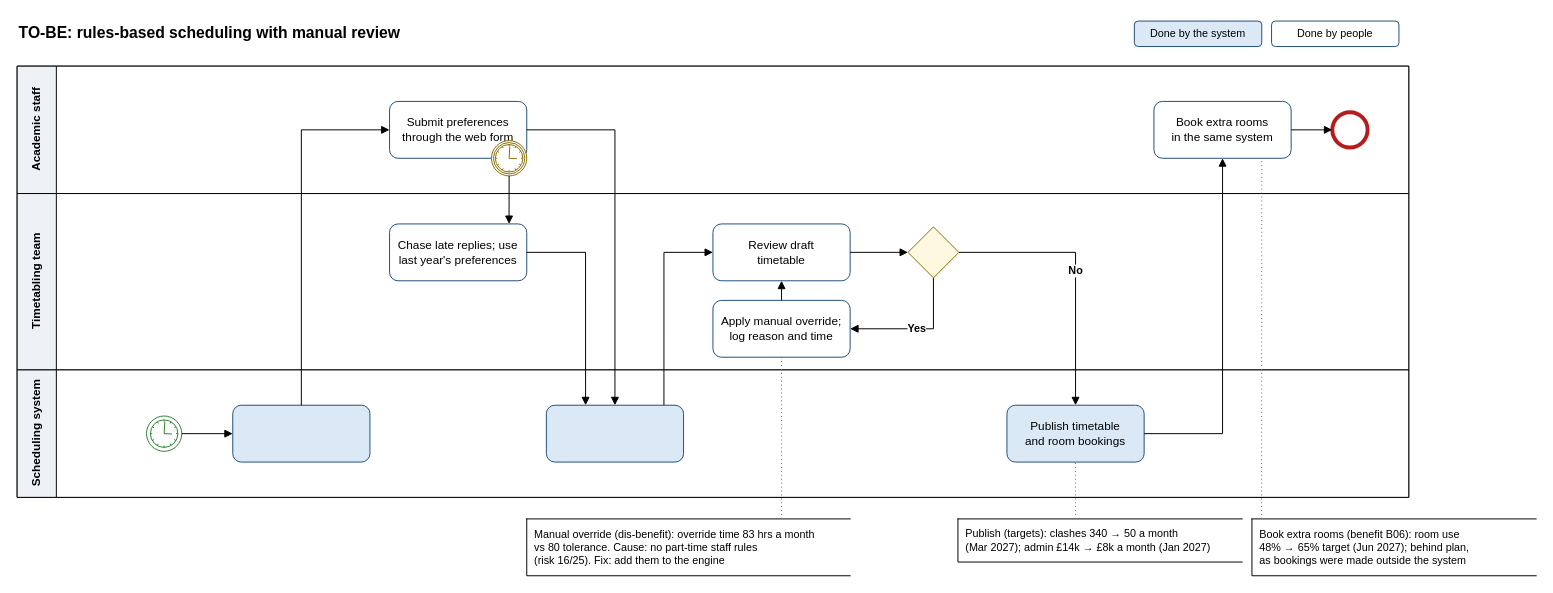
Image size: 1553x593. Some labels were removed from this diagram. The shapes that lost their labels are listed below. From the top down, each one's box as (x1, y1, x2, y2) in pixels, then its label:
(1330, 110, 1369, 149): Teaching scheduled
(490, 140, 527, 176): Deadline passed
(907, 226, 959, 278): Constraint missed?
(146, 415, 182, 451): Term planning date reached
(232, 404, 370, 462): Open preferences form with a deadline
(545, 404, 684, 462): Generate timetable with rules engine
